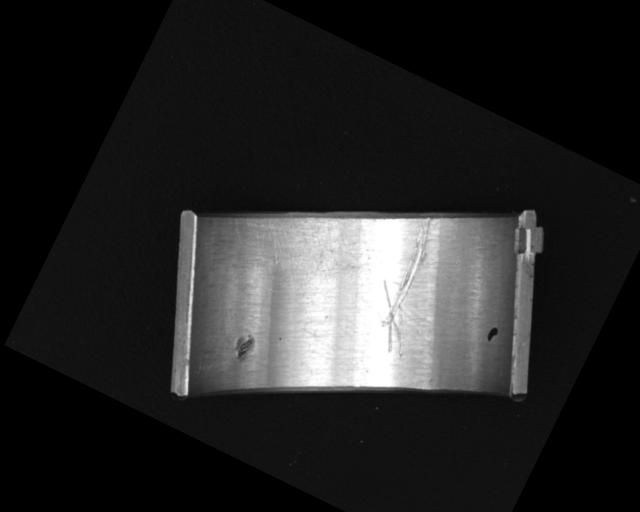blot: (483, 323, 502, 345)
bruise: (228, 330, 258, 365)
nick: (353, 208, 462, 358)
scratch: (221, 180, 356, 296)
